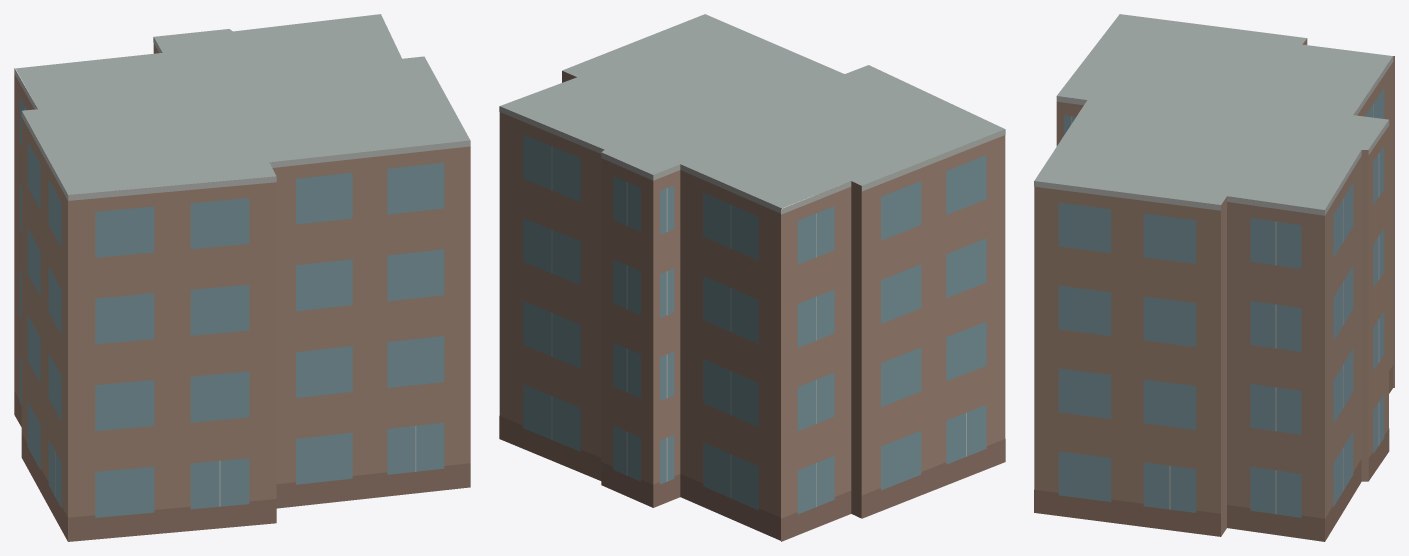
Rendered from survey-upis-32815129.glb.
3 views of the same model, side by side, from view 1: azimuth 30°, elevation 25°; view 2: azimuth 150°, elevation 25°; view 3: azimuth 270°, elevation 25° (orthographic). The views are drawn at different scales.
Parts seen in each view (by area): view 1: survey-upis-32815129.tmp; view 2: survey-upis-32815129.tmp; view 3: survey-upis-32815129.tmp.
Part boxes in pixels (x1,y1,x2,y2): survey-upis-32815129.tmp: (14, 14, 470, 541); survey-upis-32815129.tmp: (499, 14, 1005, 541); survey-upis-32815129.tmp: (1034, 14, 1394, 541).
Size of the model in its own units: 18.13 by 14.3 by 14.1.
